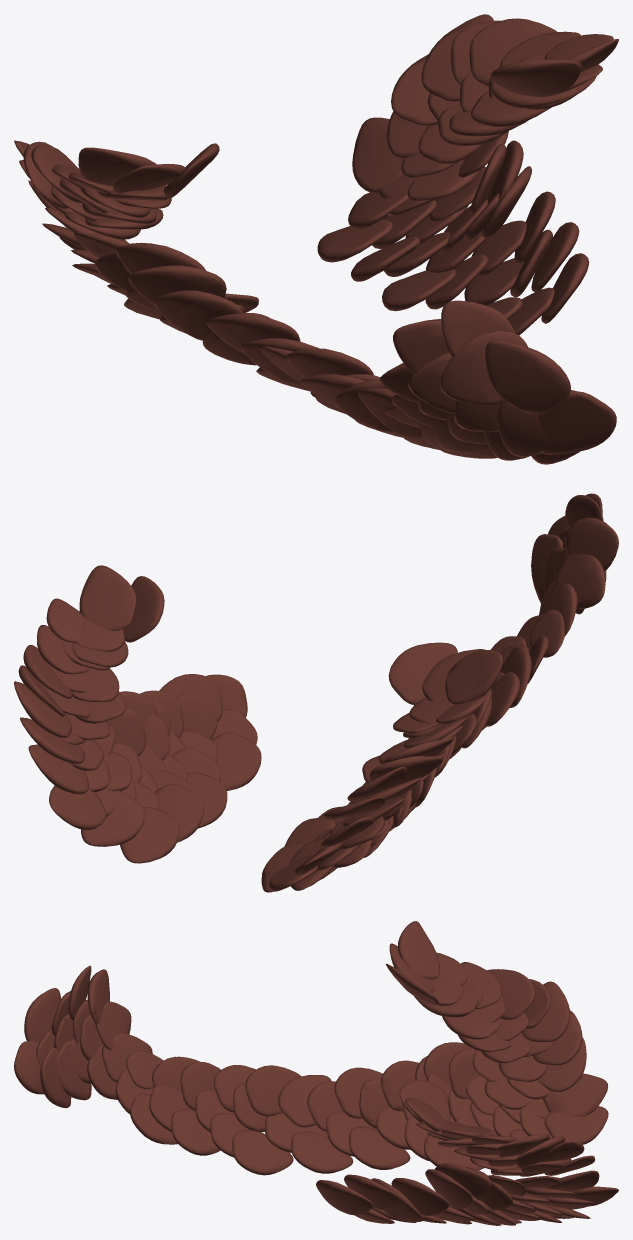
File: sculpture_21.glb
3 views of the same model, one above another, from view 1: azimuth 30°, elevation 25°; view 2: azimuth 150°, elevation 25°; view 3: azimuth 270°, elevation 25° (orthographic). The views are drawn at different scales.
Visible parts, largest first — view 1: SCL_01_13; view 2: SCL_01_13; view 3: SCL_01_13.
Part boxes in pixels (x1,y1,x2,y2): SCL_01_13: (14, 14, 618, 464); SCL_01_13: (14, 493, 618, 892); SCL_01_13: (14, 921, 618, 1225).
Size of the model in its own units: 0.555 by 0.2593 by 0.7773.
